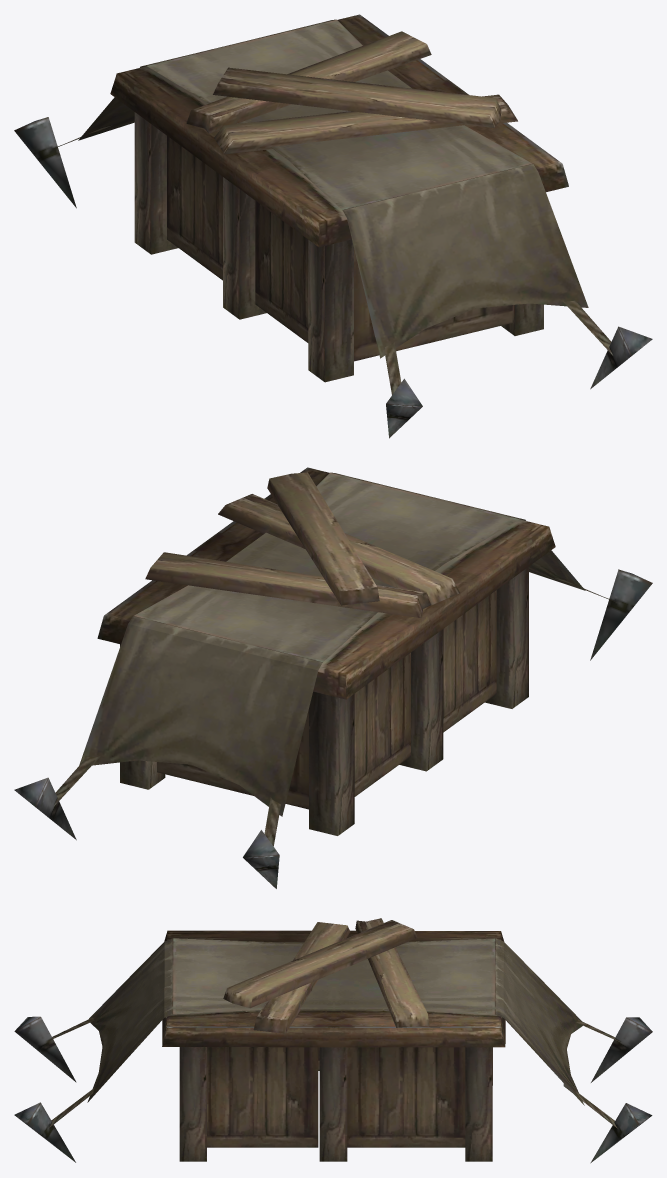
The picture shows the model from 3 angles, top to bottom: view 1: azimuth 30°, elevation 25°; view 2: azimuth 150°, elevation 25°; view 3: azimuth 270°, elevation 25°; orthographic projection. The views are drawn at different scales.
Visible parts, largest first — view 1: pasted__Combined_Mesh_root_scene_2_Mesh_polySurface4485; view 2: pasted__Combined_Mesh_root_scene_2_Mesh_polySurface4485; view 3: pasted__Combined_Mesh_root_scene_2_Mesh_polySurface4485.
Part boxes in pixels (<box>): pasted__Combined_Mesh_root_scene_2_Mesh_polySurface4485: <box>14,14,652,438</box>; pasted__Combined_Mesh_root_scene_2_Mesh_polySurface4485: <box>14,467,652,888</box>; pasted__Combined_Mesh_root_scene_2_Mesh_polySurface4485: <box>14,918,652,1163</box>.
Bounding box in the file's own units: 5.41 × 3.87 × 13.06.
